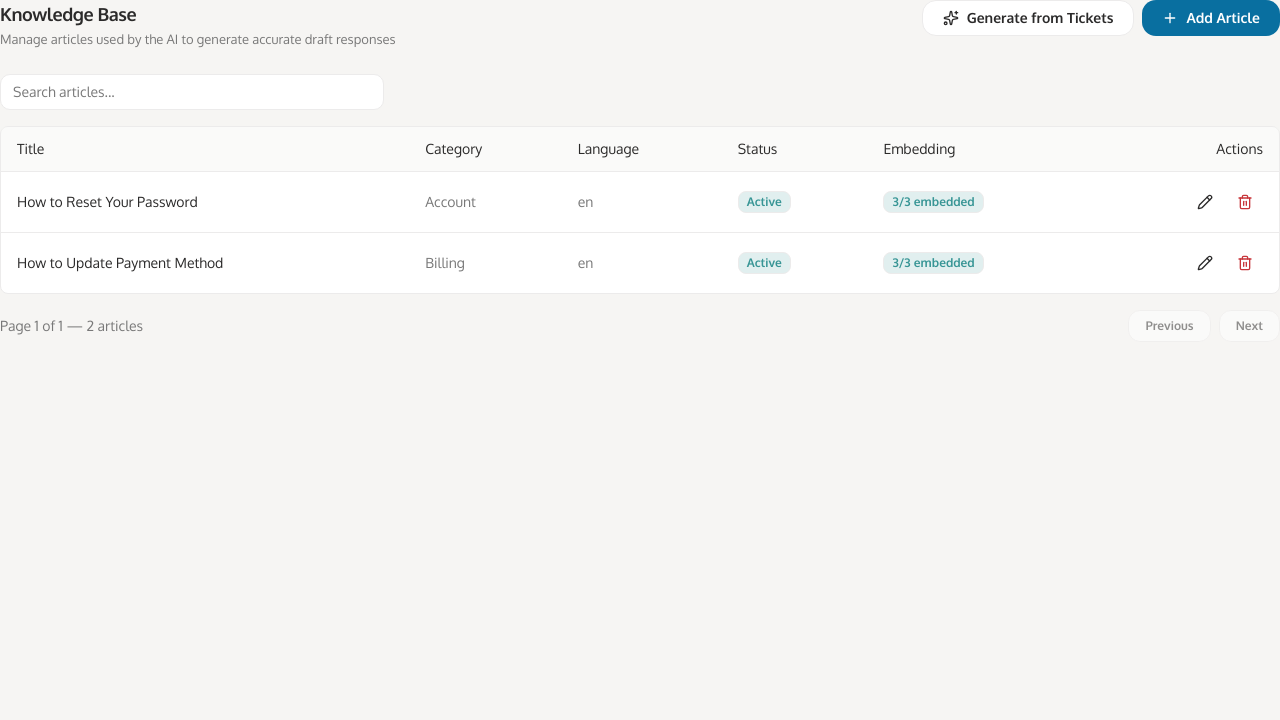
Knowledge Base › closes modal on cancel
The width and height of the screenshot is (1280, 720).
Click the button "Add Article" at (1211, 18), box [1142,0,1279,36]
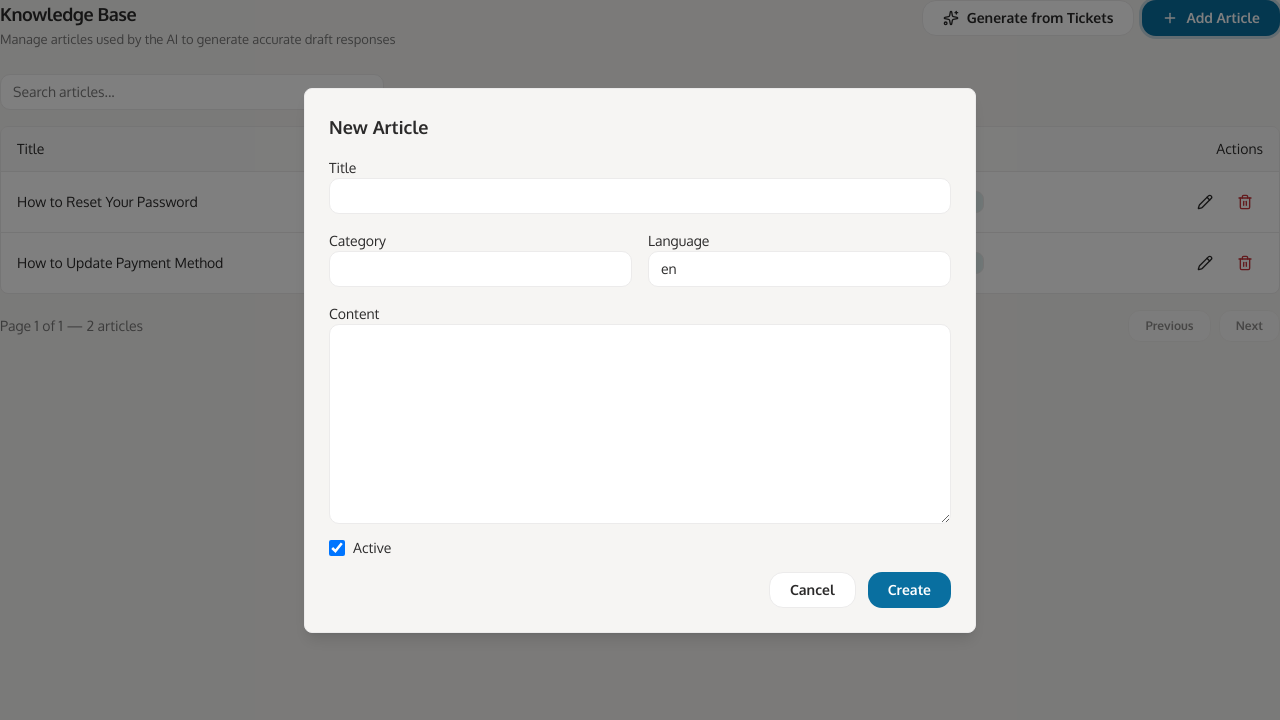
Result: the heading "New Article" is shown at [329,116,428,138]
Click the button "Cancel" at (812, 590), box [769,572,856,608]
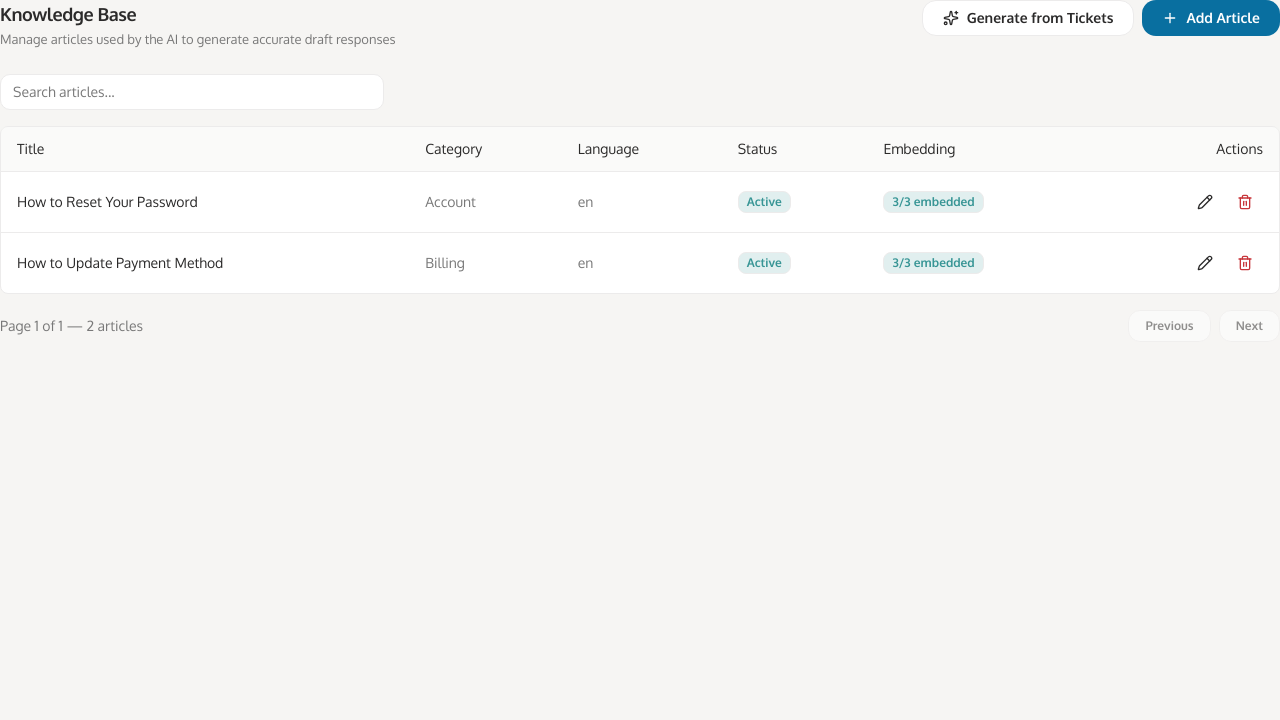
Result: the heading "New Article" is gone
